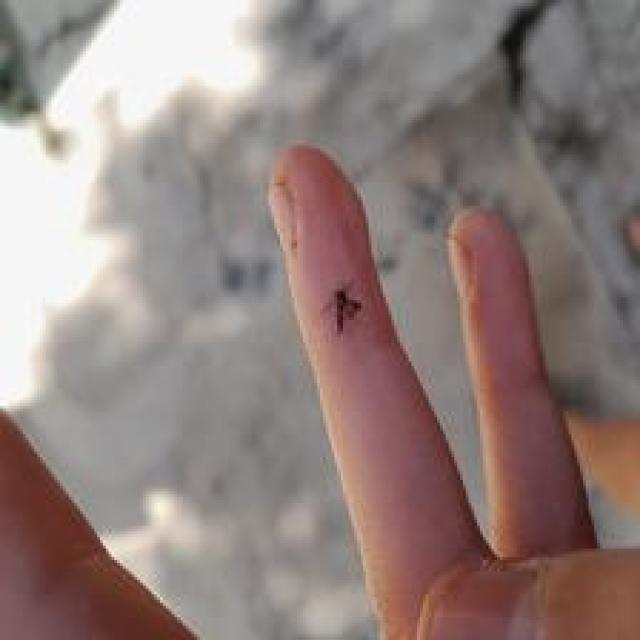Aedes albopictus: (0, 0, 131, 160)
